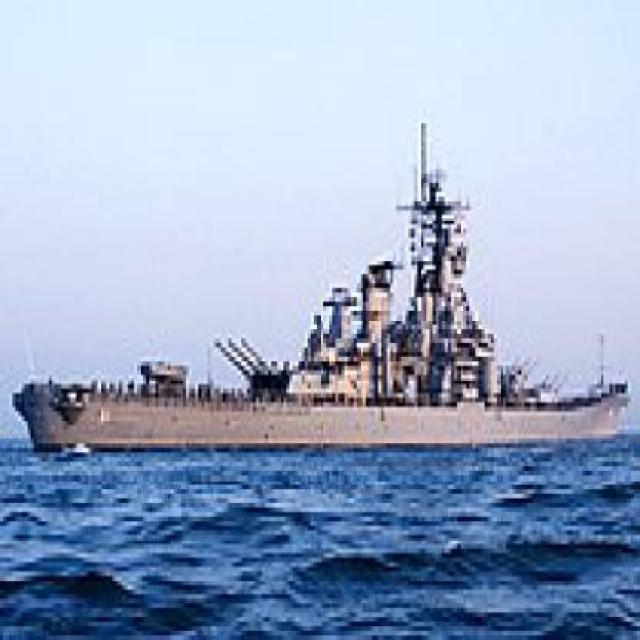warship2: (10, 106, 632, 472)
